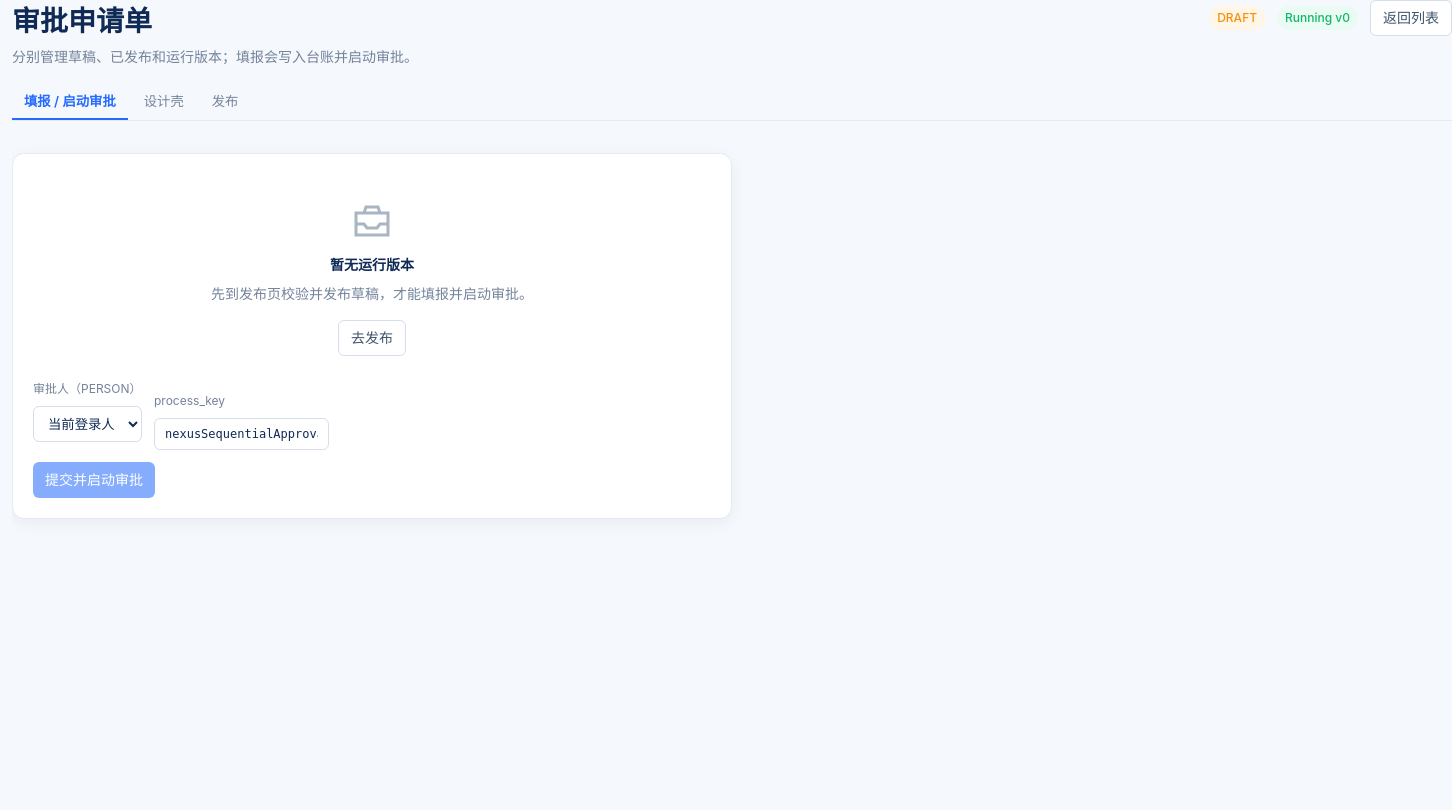
Test: form studio visual states › renders read-only empty preview with safe list fallback
Step 1. Click the button "设计壳" → (164, 102), box [132,83,196,120]
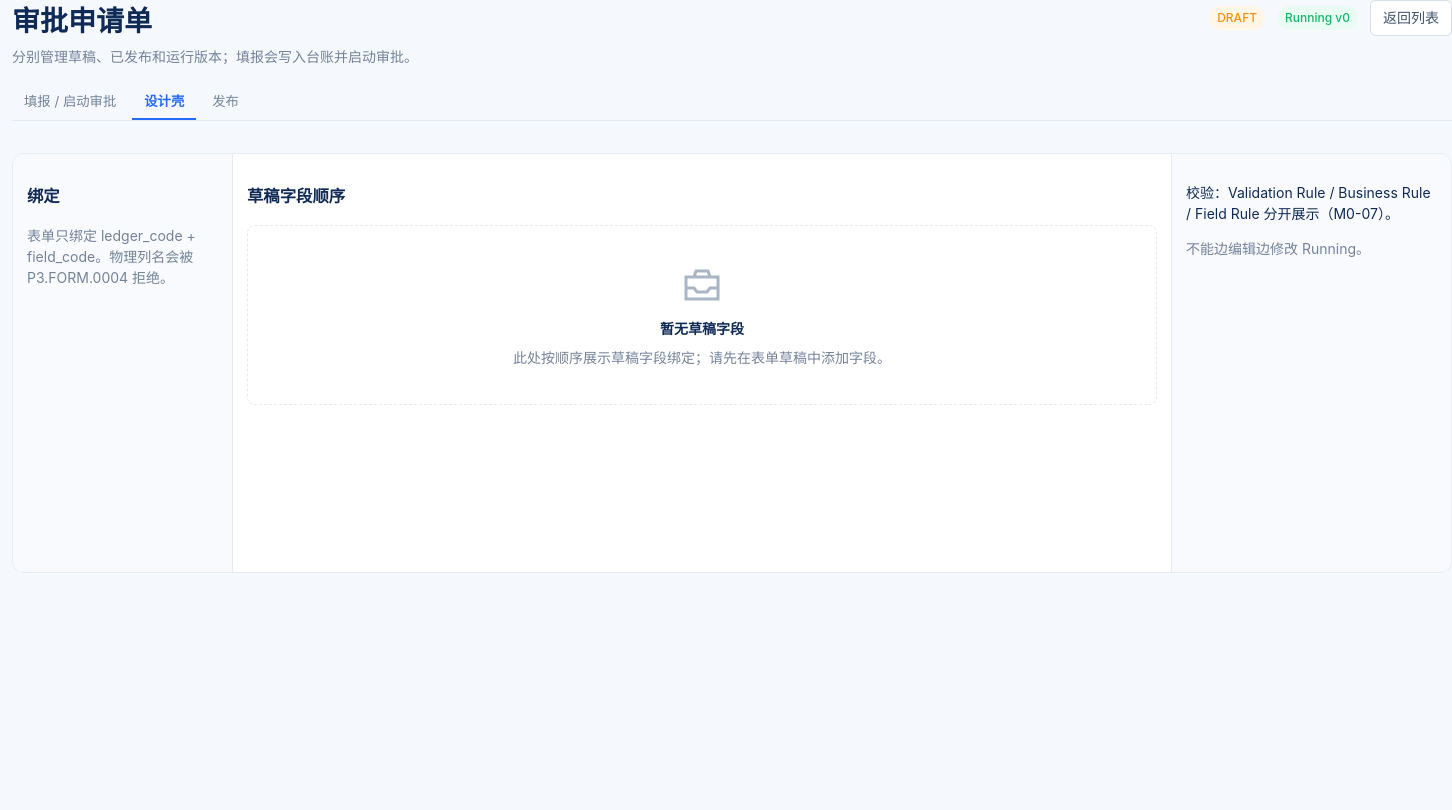
Now the element with test id "studio-field-preview" shows "暂无草稿字段", box [660,320,744,337]
